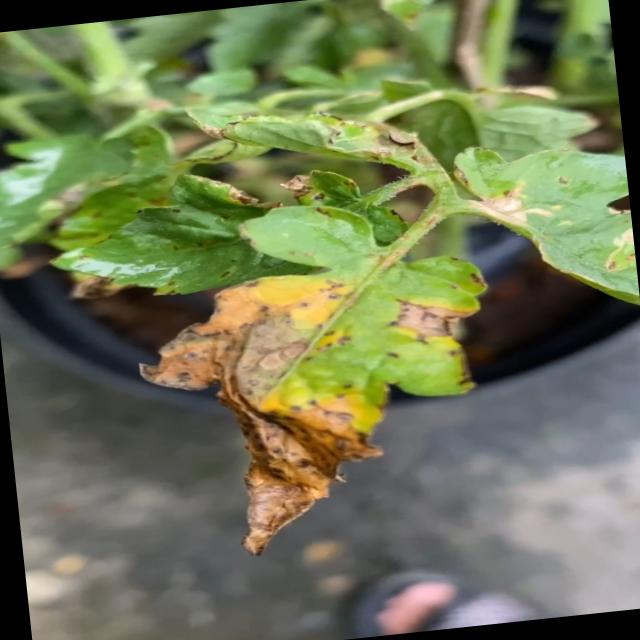Tomato_Late_Blight: (120, 247, 507, 565)
